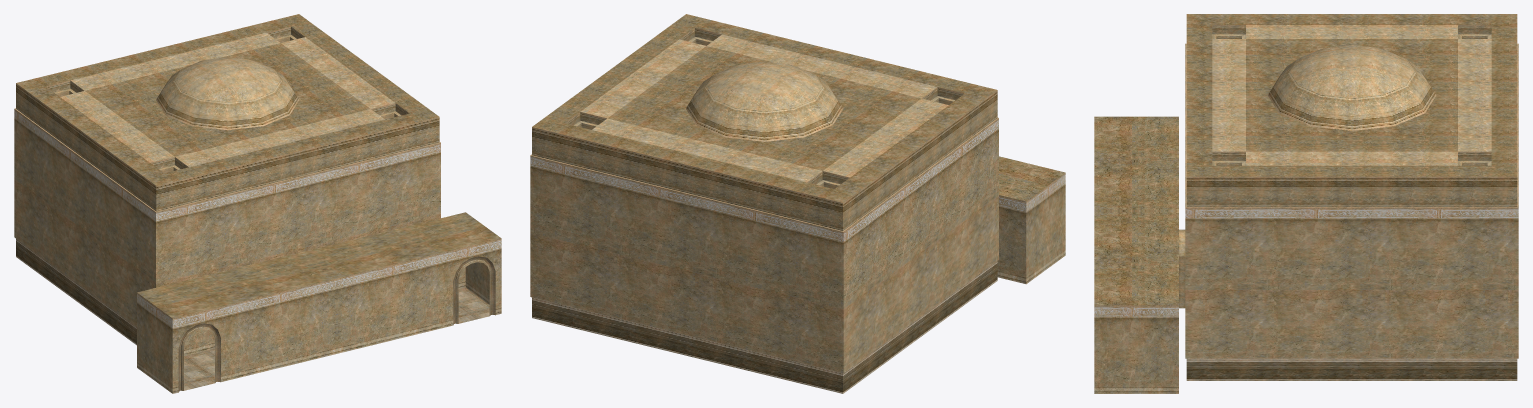
The model's file is thm_lok_nyms_stronghold_r5_foyer2_mesh_foyer2.fbx.
3 renders of one model, left to right at view 1: azimuth 30°, elevation 25°; view 2: azimuth 150°, elevation 25°; view 3: azimuth 270°, elevation 25°, orthographic. The views are drawn at different scales.
Parts seen in each view (by area): view 1: mesh_node; view 2: mesh_node; view 3: mesh_node.
Part boxes in pixels (left/top/right/bottom): mesh_node: left=14, top=14, right=501, bottom=393; mesh_node: left=530, top=14, right=1065, bottom=393; mesh_node: left=1094, top=14, right=1518, bottom=393.
Bounding box in the file's own units: 17.38 × 10.44 × 16.5.
